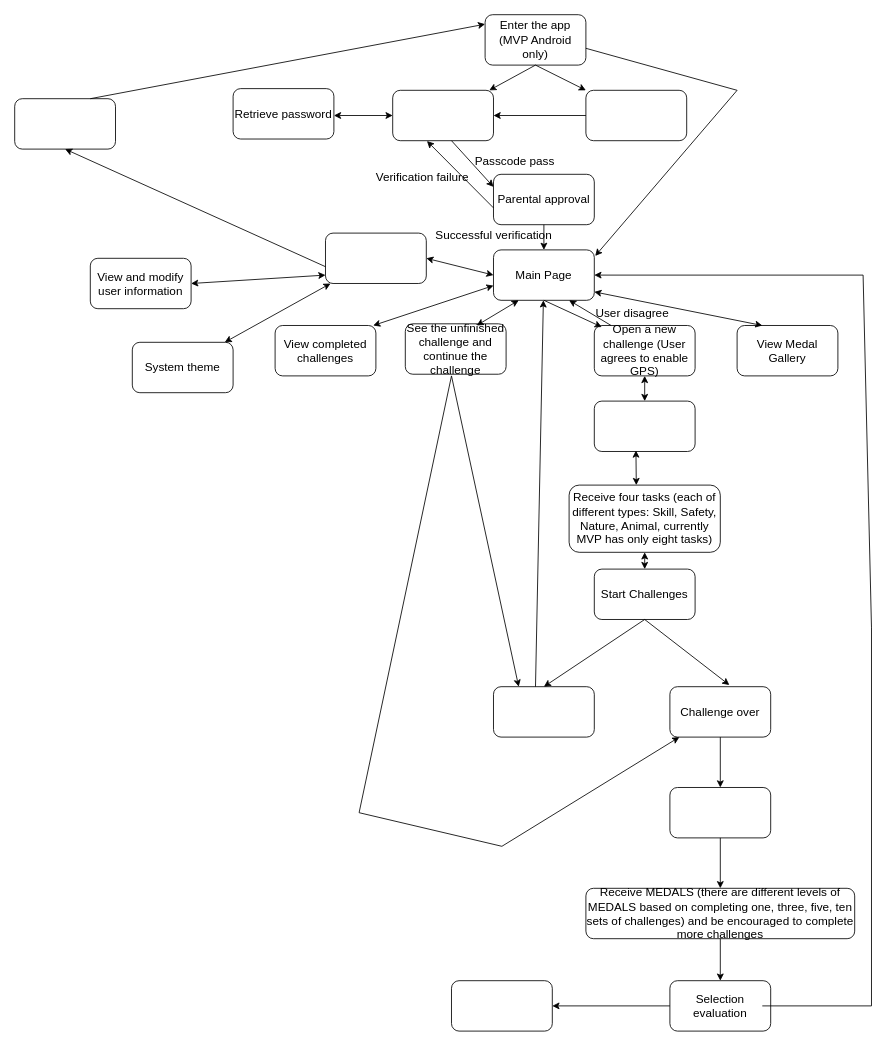
The diagram is 893 pixels wide and 1046 high, and some of its shapes have lost their labels. The shapes that lost their labels are listed below. From the top down, each one's centre as x and y in pixels, then its label:
At [65,123]: "Log out".
At [443,115]: "Log in".
At [636,115]: "Parent Registration (Parents can only register one child)".
At [375,258]: "Setting".
At [644,426]: "Select modes: Walking, Riding, scooter".
At [543,711]: "Challenge pause".
At [720,812]: "Display challenge time and record completion of the game".
At [501,1005]: "Exit App".
